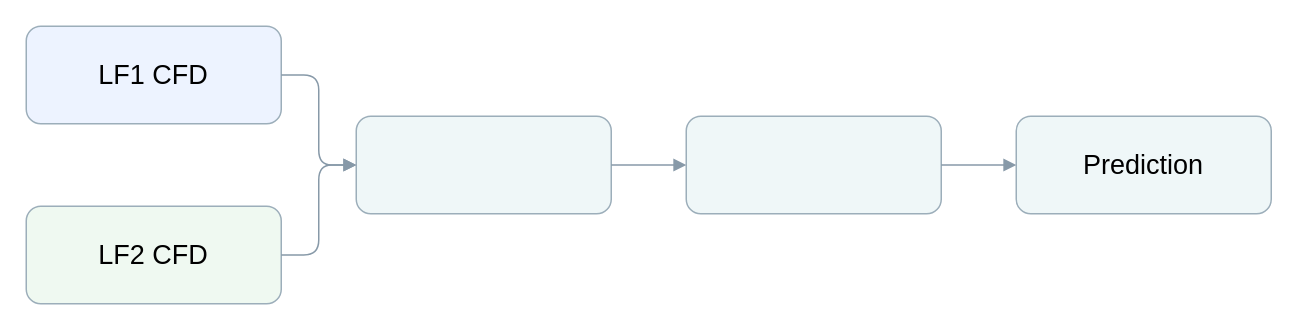
This 1298x330 diagram has some shape labels left out. The centre of each missing label's shape, as x and y in pixels:
Align + stencils: the point at 483,164
NNLCI: the point at 813,164
